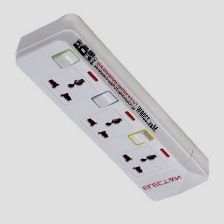three_eye_plug: (11, 12, 213, 205)
